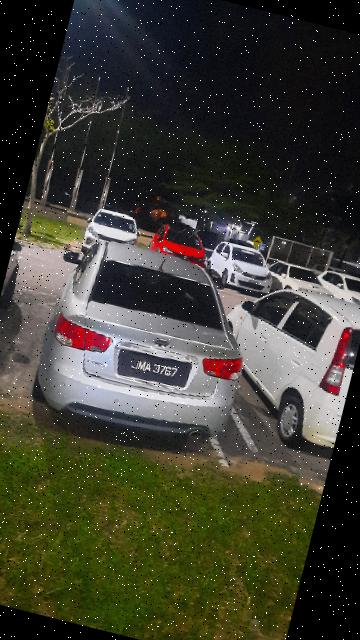License_Plate: (114, 347, 194, 393)
car: (24, 228, 269, 460), (198, 276, 360, 460), (205, 239, 281, 298), (263, 257, 342, 312), (80, 205, 148, 266), (146, 221, 215, 280), (311, 267, 360, 318)
